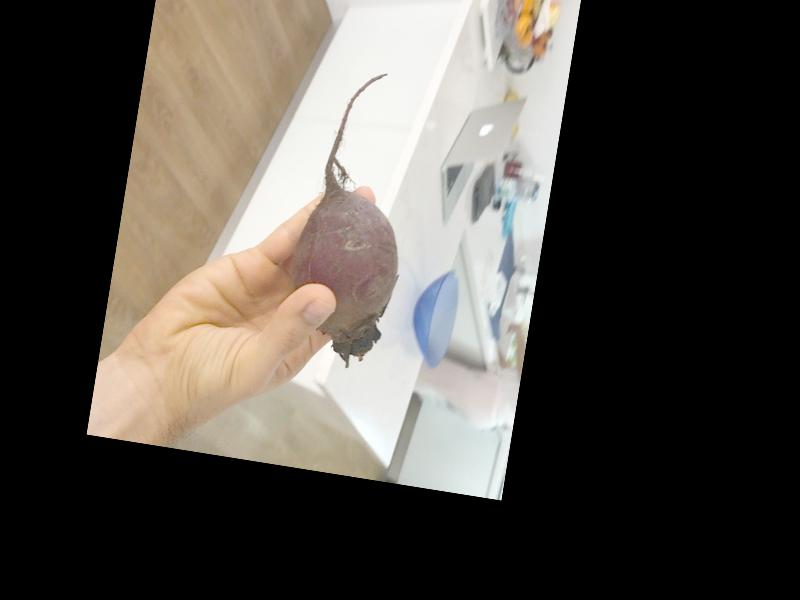Beet: (280, 63, 427, 370)
